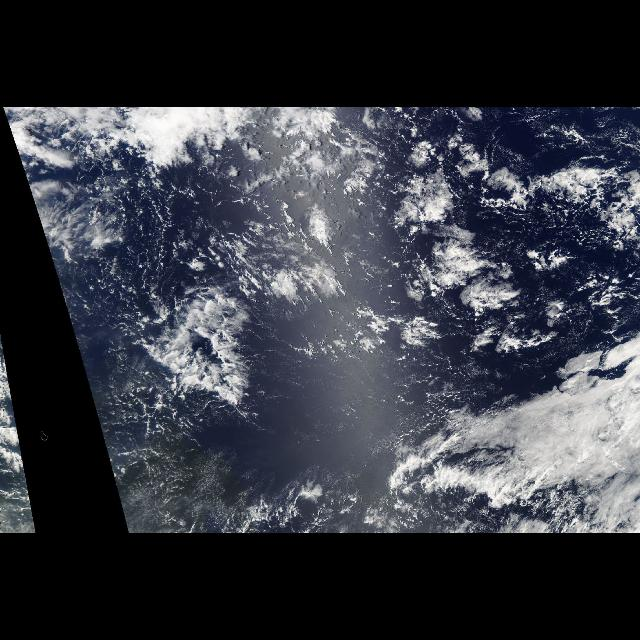Flower: (352, 134, 550, 363)
Gravel: (66, 255, 184, 442)
Sugar: (108, 448, 252, 532)
